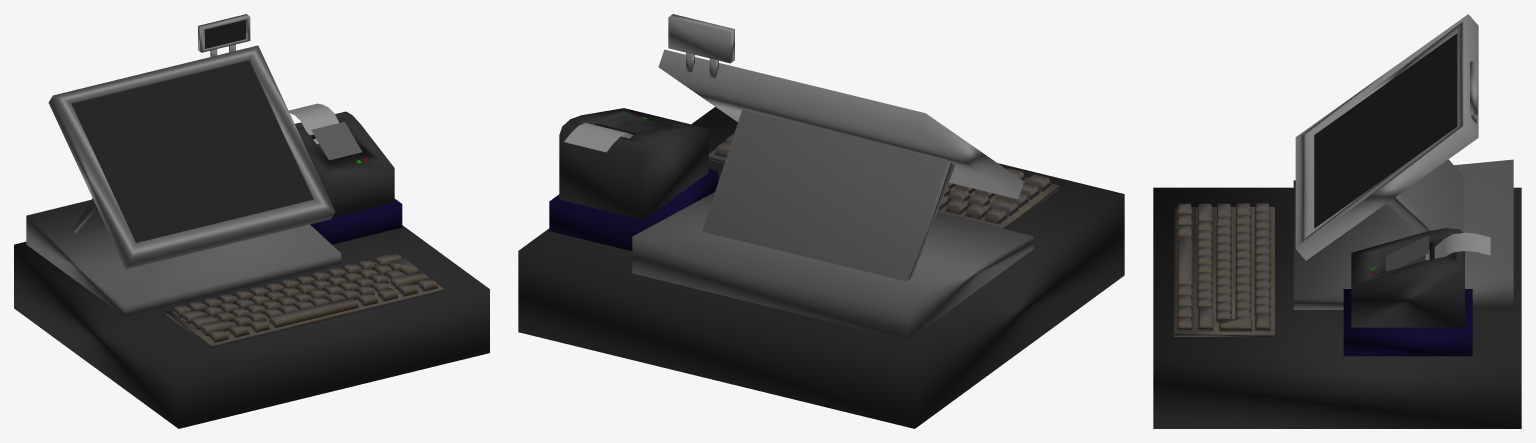
File: billmachine.glb
The picture shows the model from 3 angles, left to right: view 1: azimuth 30°, elevation 25°; view 2: azimuth 150°, elevation 25°; view 3: azimuth 270°, elevation 25°; orthographic projection. The views are drawn at different scales.
Parts seen in each view (by area): view 1: billmachine.003; view 2: billmachine.003; view 3: billmachine.003.
Part boxes in pixels (x1,y1,x2,y2): billmachine.003: (14, 14, 489, 428); billmachine.003: (518, 14, 1124, 428); billmachine.003: (1153, 14, 1521, 428).
Size of the model in its own units: 0.736 by 0.5803 by 0.6744.
13 materials, 2 textured.
